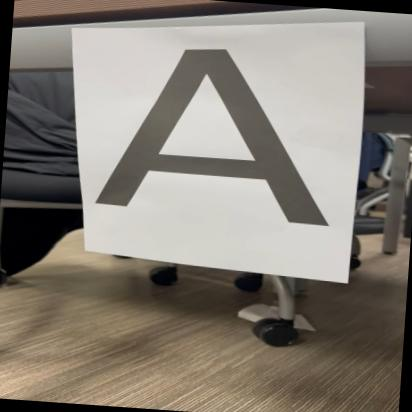seat: (81, 40, 342, 229)
